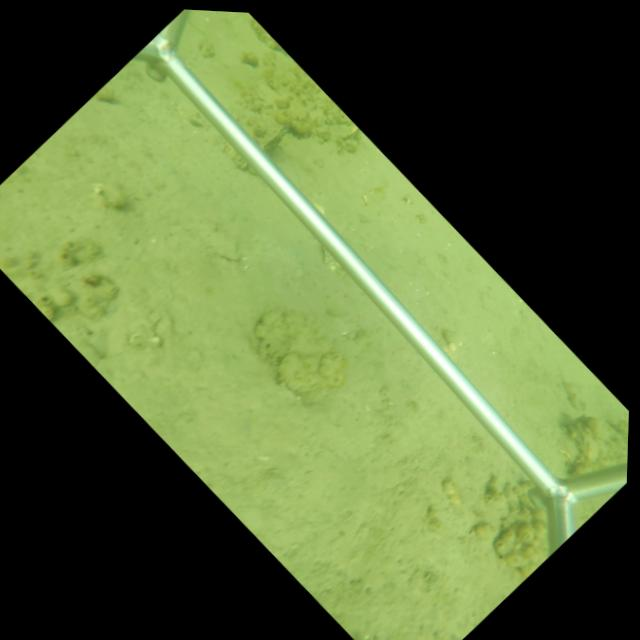Oyster-Closed: (259, 125, 286, 155)
